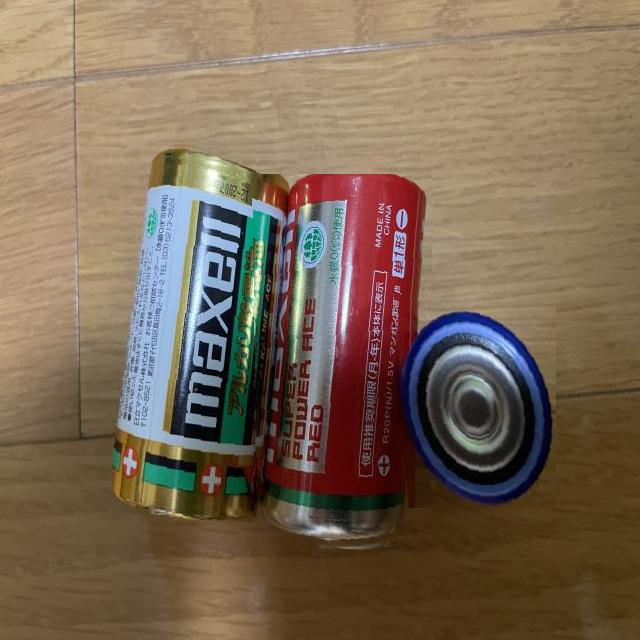battery: (112, 139, 299, 522), (252, 174, 432, 556), (394, 292, 556, 508)
